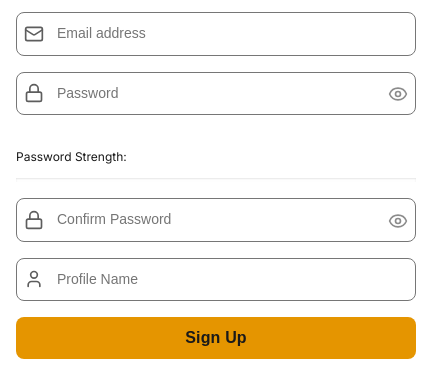
Scenario: SignUpForm Component › updates password strength meter
Step 1. Type "weakpass" into the password field with placeholder "Password" → point(216, 93), box [16,72,416,115]
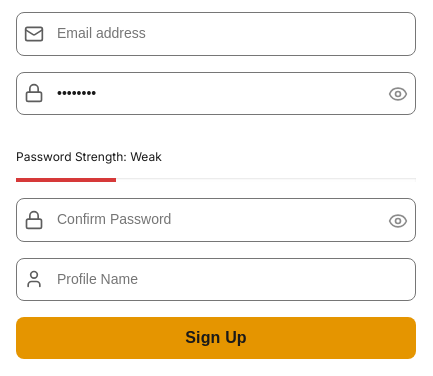
Expected: the text "Password Strength: Weak" is shown, [16,149,162,164]
Step 2. Type "StrongPass123!" into the password field with placeholder "Password" → point(216, 93), box [16,72,416,115]
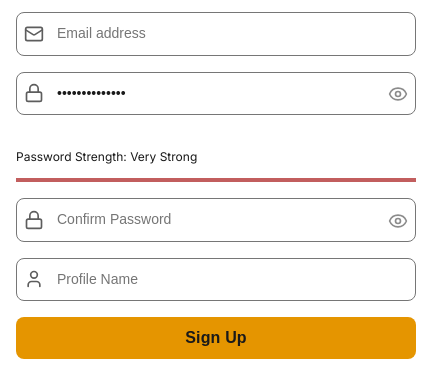
Expected: the text "Password Strength: Very Strong" is shown, [16,149,197,164]
